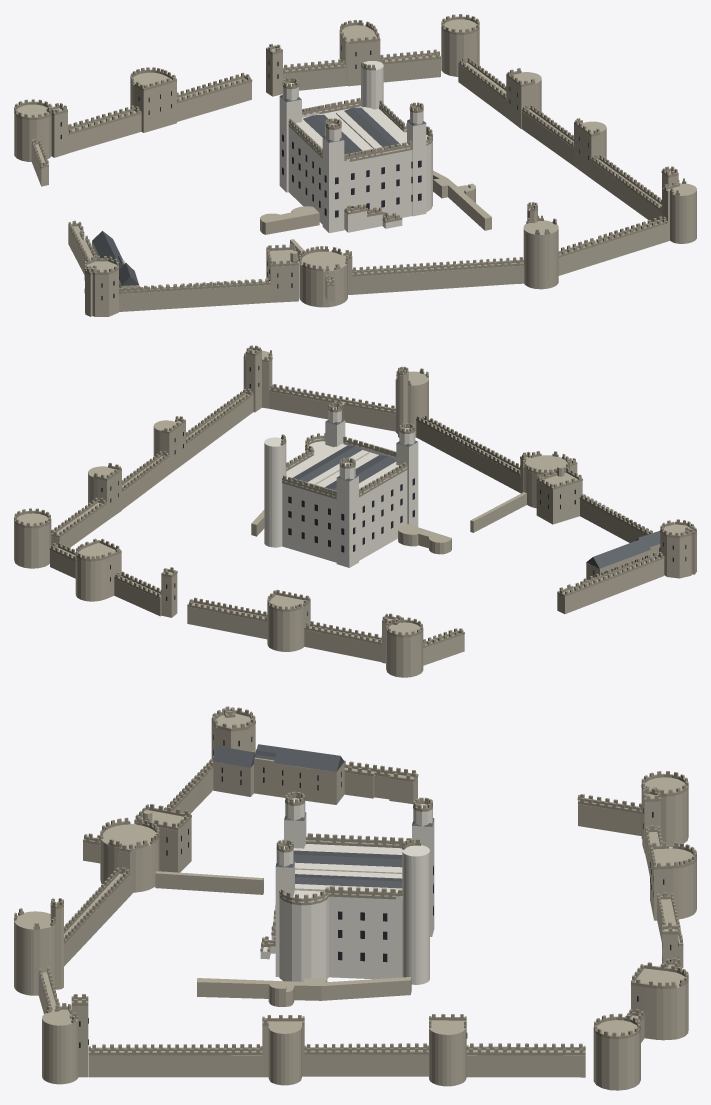
File: tower-of-london-site-b35.glb
3 renders of one model, top to bottom at view 1: azimuth 30°, elevation 25°; view 2: azimuth 150°, elevation 25°; view 3: azimuth 270°, elevation 25°, orthographic. The views are drawn at different scales.
Bounding box in the file's own units: 191 × 36.6 × 169.
